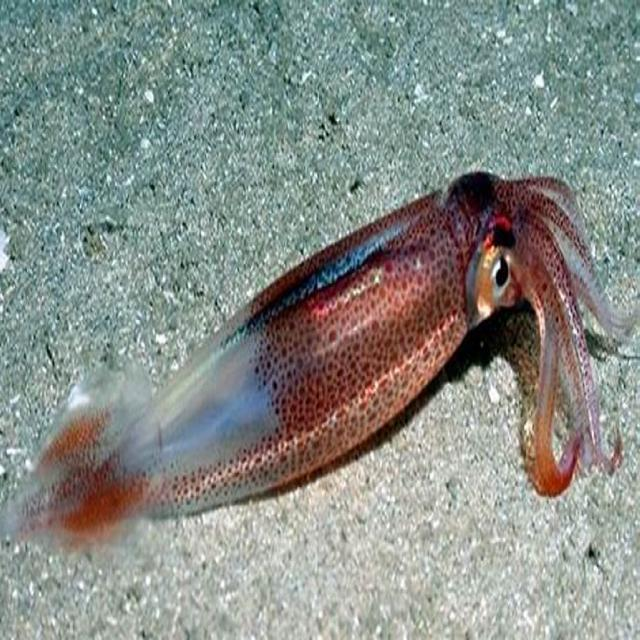SQUID: (0, 153, 632, 562)
